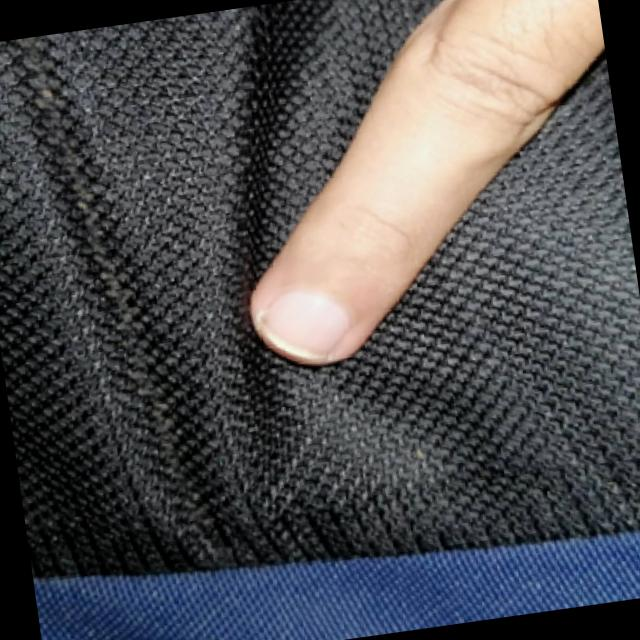Nail: (260, 290, 349, 361)
